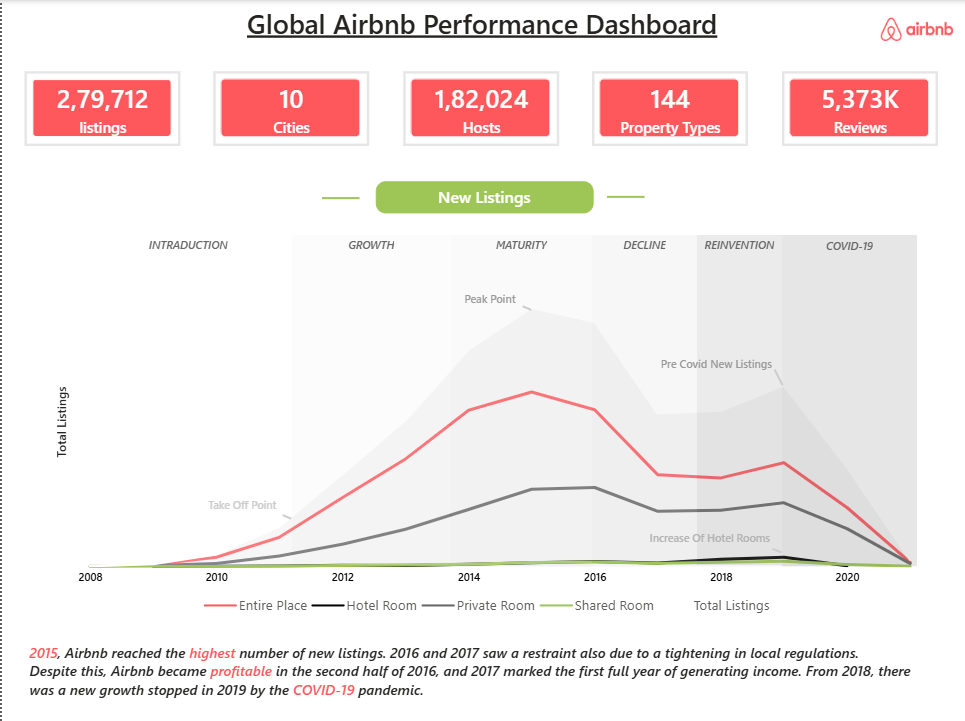

Layout of this report page (visuals, bound fields, positions):
{"tool":"powerbi","page":{"name":"OVERVIEW","canvas":[960,720],"ordinal":0},"visuals":[{"type":"textbox","box":[238.7,0,482.7,58.5],"z":0},{"type":"image","box":[874.5,11.2,72.1,36.1],"z":1000},{"type":"cardVisual","fields":{"Data":["CountNonNull(Listings.listing_id)"]},"box":[22.4,70.9,155,74],"z":2000},{"type":"cardVisual","fields":{"Data":["Count(Listings.city)"]},"box":[210.5,70.9,155.5,74.6],"z":3000},{"type":"cardVisual","fields":{"Data":["Count(Listings.host_id)"]},"box":[399.1,70.9,155.5,74.6],"z":4000},{"type":"cardVisual","fields":{"Data":["Count(Listings.property_type)"]},"box":[587.6,70.9,155.5,74.6],"z":5000},{"type":"cardVisual","fields":{"Data":["CountNonNull(Reviews.review_id)"]},"box":[776.2,70.9,155.5,74.6],"z":6000},{"type":"lineChart","fields":{"Category":["Listings.host_since.Variation.Date Hierarchy.Year"],"Y":["Listings.Entire Place","Listings.Hotel Room","Listings.Private Room","Listings.Shared Room","CountNonNull(Listings.listing_id)"]},"box":[50,262.5,871.2,358.8],"z":7000},{"type":"textbox","box":[371.8,180.4,216.4,32.3],"z":8000},{"type":"shape","box":[318.5,174.2,37.3,46],"z":9000},{"type":"shape","box":[602.1,172.9,37.3,46],"z":10000},{"type":"textbox","box":[22.4,634.4,909.3,77.1],"z":11000},{"type":"shape","box":[82.1,233.9,206.5,328.4],"z":12000},{"type":"shape","box":[288.6,233.9,158,328.4],"z":13000},{"type":"shape","box":[446.6,233.9,140.6,329.6],"z":14000},{"type":"shape","box":[587.1,233.9,104.5,324.7],"z":15000},{"type":"shape","box":[691.6,233.9,84.6,328.4],"z":16000},{"type":"shape","box":[776.2,233.9,134.3,329.6],"z":17000},{"type":"shape","box":[517.5,296.1,10,21.1],"z":18000},{"type":"shape","box":[766,367,13,17],"z":19000},{"type":"shape","box":[766.3,537.4,10,21.1],"z":20000},{"type":"shape","box":[278.6,503.8,10,21.1],"z":21000},{"type":"textbox","box":[200,487.5,88.8,27.5],"z":22000},{"type":"textbox","box":[455,282.5,88.8,27.5],"z":23000},{"type":"textbox","box":[640,520,158.8,27.5],"z":24000},{"type":"textbox","box":[650,347.5,138.8,27.5],"z":25000}]}

Visuals, with their boxes in screenshot pixels (x1, y1, x2, y2), scaled from the page's 960x720 canvas onto the 965x721 screenshot:
textbox: [240, 0, 725, 59]
image: [879, 11, 952, 47]
cardVisual - CountNonNull(Listings.listing_id): [23, 71, 178, 145]
cardVisual - Count(Listings.city): [212, 71, 368, 146]
cardVisual - Count(Listings.host_id): [401, 71, 557, 146]
cardVisual - Count(Listings.property_type): [591, 71, 747, 146]
cardVisual - CountNonNull(Reviews.review_id): [780, 71, 937, 146]
lineChart - Listings.host_since.Variation.Date Hierarchy.Year x Listings.Entire Place: [50, 263, 926, 622]
textbox: [374, 181, 591, 213]
shape: [320, 174, 358, 221]
shape: [605, 173, 643, 219]
textbox: [23, 635, 937, 712]
shape: [83, 234, 290, 563]
shape: [290, 234, 449, 563]
shape: [449, 234, 590, 564]
shape: [590, 234, 695, 559]
shape: [695, 234, 780, 563]
shape: [780, 234, 915, 564]
shape: [520, 297, 530, 318]
shape: [770, 368, 783, 385]
shape: [770, 538, 780, 559]
shape: [280, 504, 290, 526]
textbox: [201, 488, 290, 516]
textbox: [457, 283, 547, 310]
textbox: [643, 521, 803, 548]
textbox: [653, 348, 793, 376]
